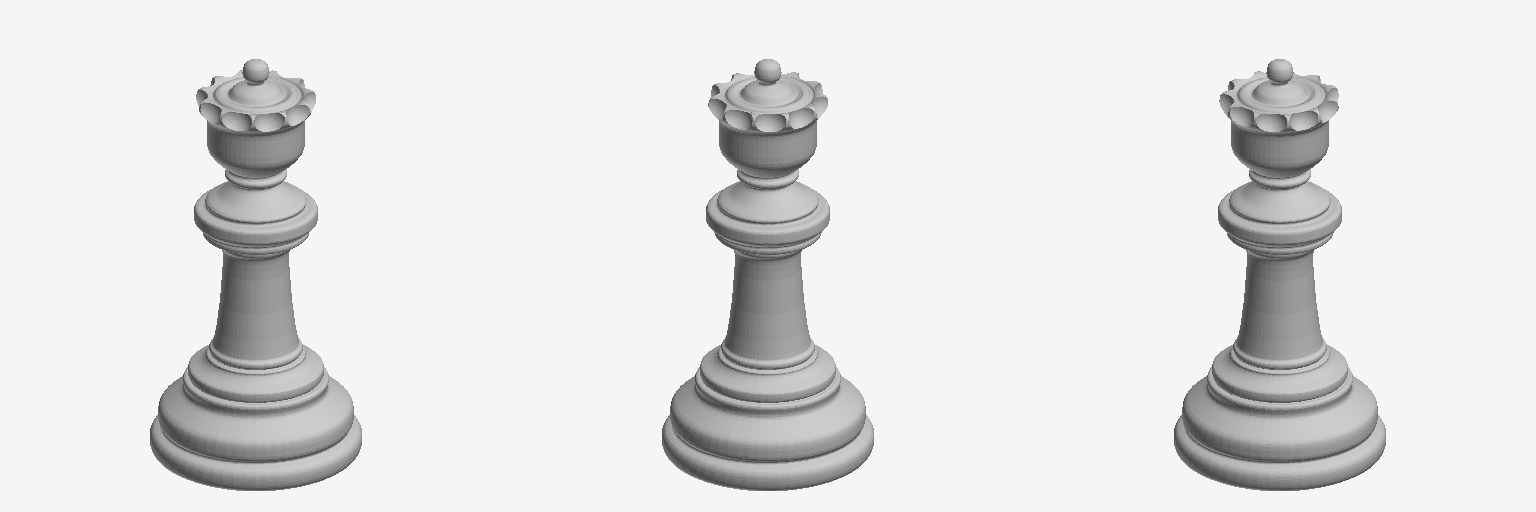
Rendered from queen.obj.
3 renders of one model, left to right at view 1: azimuth 30°, elevation 25°; view 2: azimuth 150°, elevation 25°; view 3: azimuth 270°, elevation 25°, orthographic.
Visible parts, largest first — view 1: Chess_White_Queen_Queen_1; view 2: Chess_White_Queen_Queen_1; view 3: Chess_White_Queen_Queen_1.
Boxes of the visible parts, <box> form: Chess_White_Queen_Queen_1: <box>150,59,361,490</box>; Chess_White_Queen_Queen_1: <box>662,59,873,490</box>; Chess_White_Queen_Queen_1: <box>1174,59,1385,490</box>.
Bounding box in the file's own units: 0.8889 × 1.8 × 0.8888.